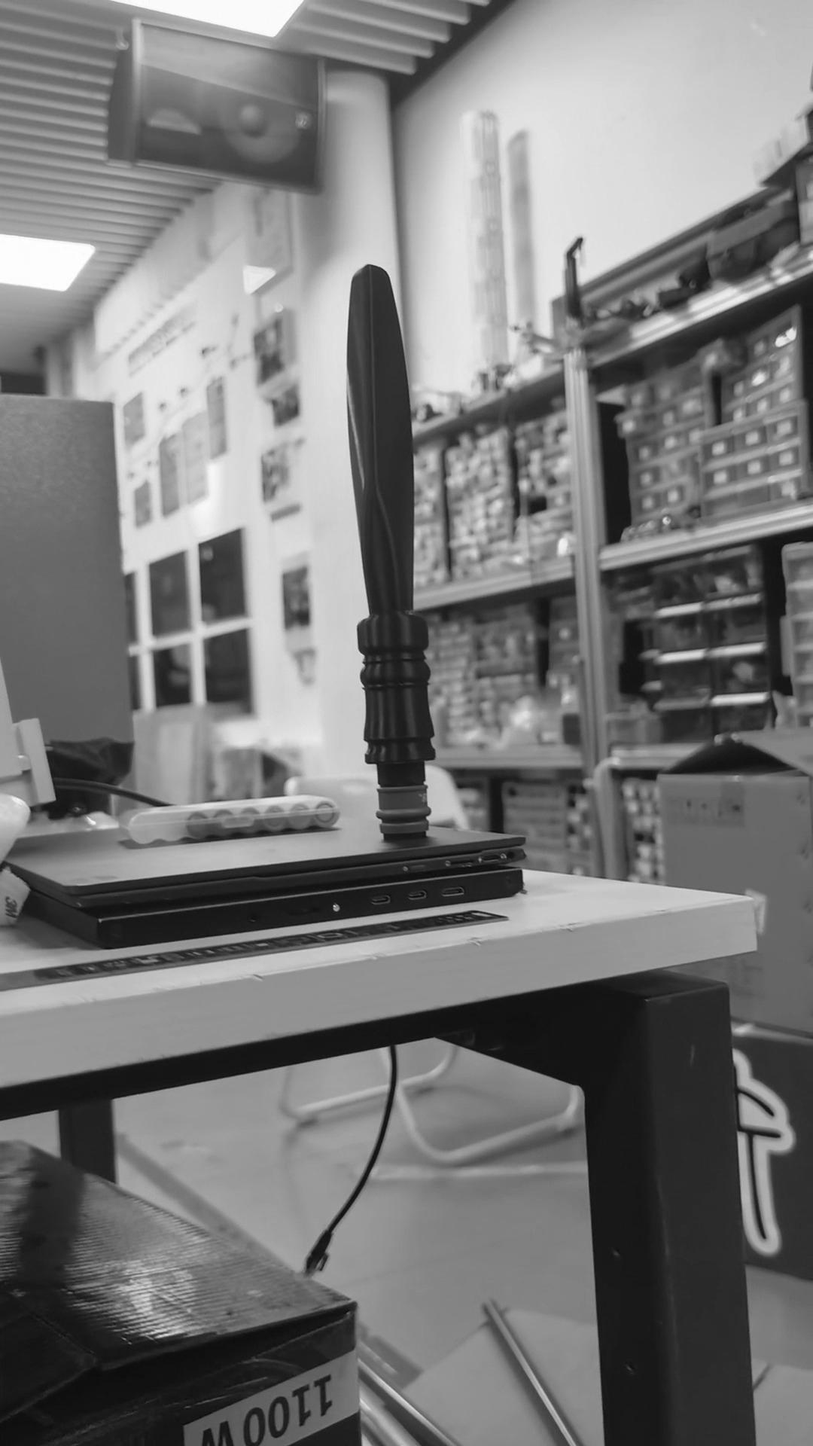base: (372, 783, 433, 839)
